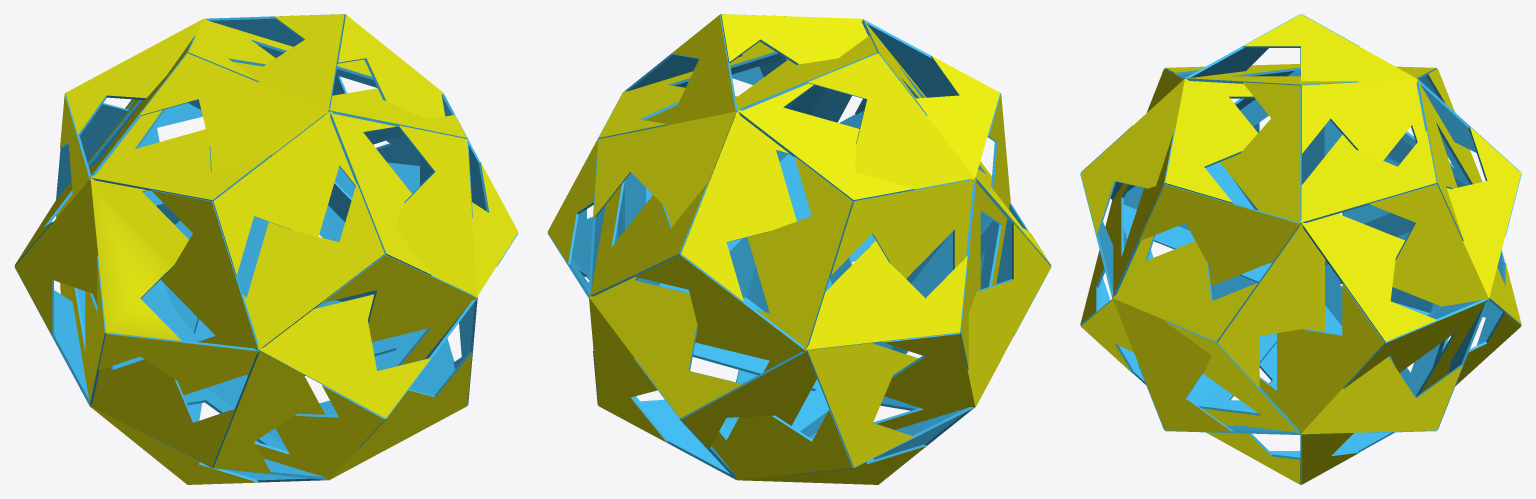
Rendered from SmallTriambicIcosahedronS1.glb.
3 views of the same model, side by side, from view 1: azimuth 30°, elevation 25°; view 2: azimuth 150°, elevation 25°; view 3: azimuth 270°, elevation 25° (orthographic). The views are drawn at different scales.
Parts seen in each view (by area): view 1: root; view 2: root; view 3: root.
Boxes of the visible parts, bbox=[...] form: root: bbox=[14, 14, 518, 484]; root: bbox=[547, 14, 1051, 484]; root: bbox=[1080, 14, 1521, 484].
Bounding box in the file's own units: 8.71 × 8.71 × 8.71.
